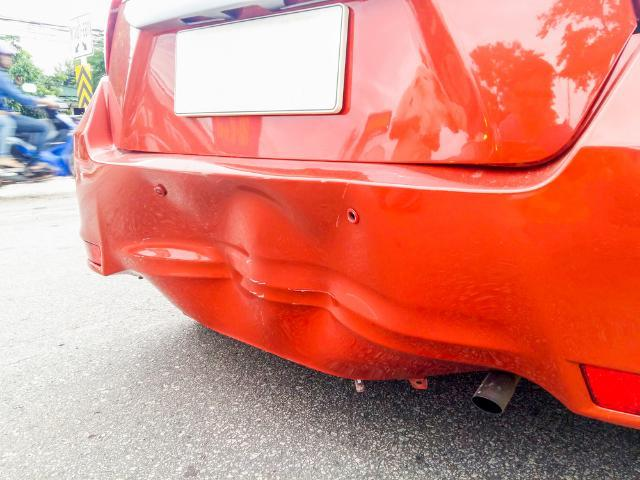dent: (111, 180, 352, 368)
